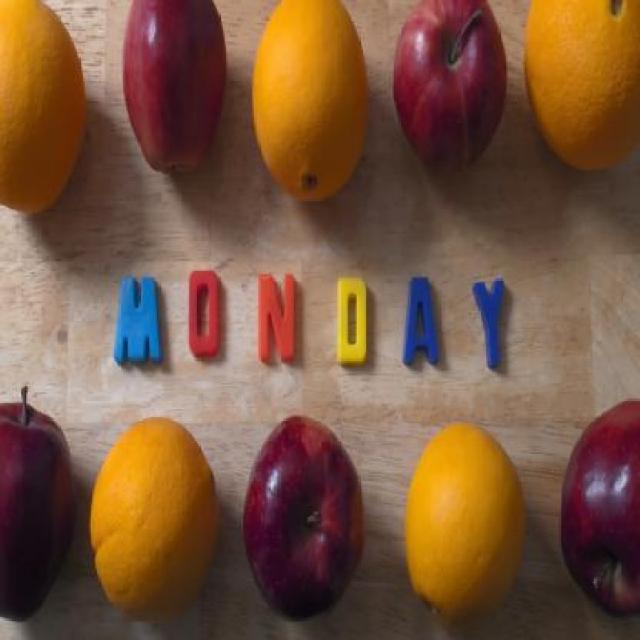Apple pie: (242, 415, 364, 617), (395, 7, 513, 168), (120, 0, 226, 174), (558, 398, 640, 620), (0, 382, 74, 624)
